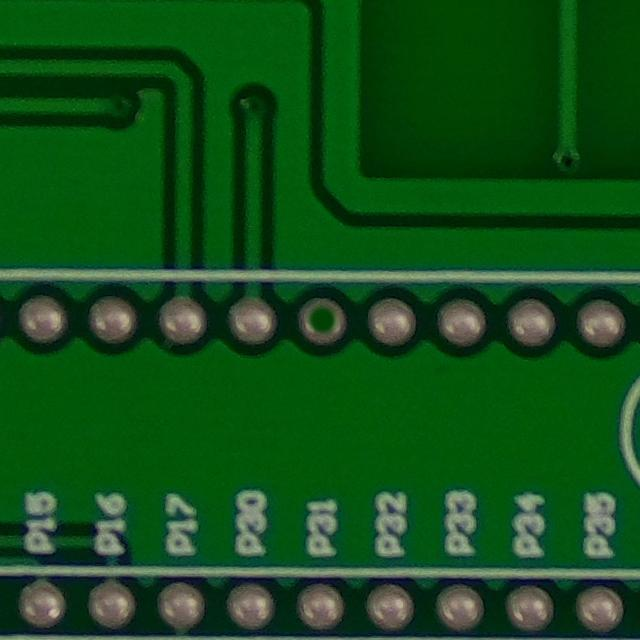missing_hole: (290, 284, 355, 351)
